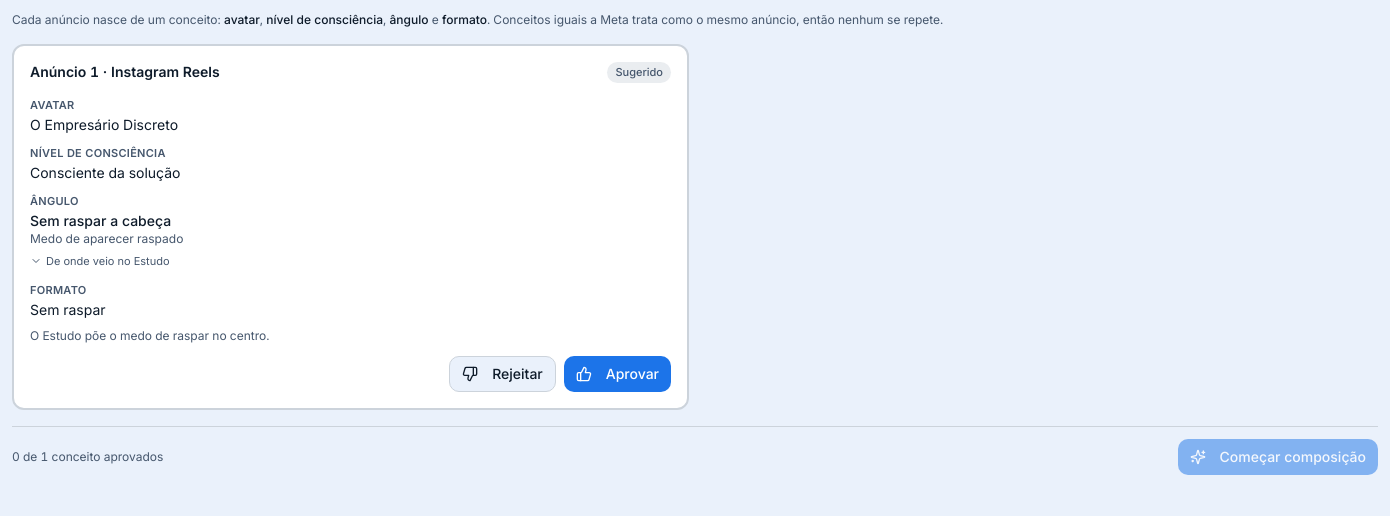
it: ConceitosComposicao › o card mostra as quatro partes, o uso e de onde o ângulo veio
Expected: the list item with aria-label "Conceito do anúncio 1" shows "Anúncio 1 · Instagram Reels", [12, 44, 689, 410]
Expected: the list item with aria-label "Conceito do anúncio 1" shows "O Empresário Discreto", [30, 116, 178, 132]
Click the button "De onde veio no Estudo". click: (100, 260)
box: [30, 250, 170, 270]
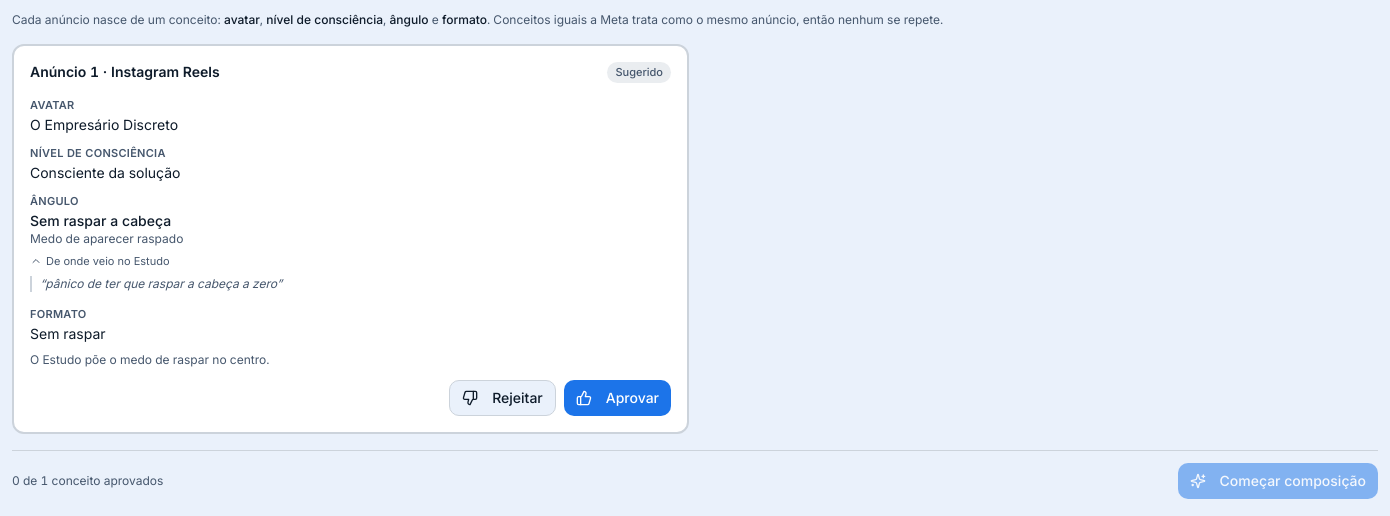
Expected: the list item with aria-label "Conceito do anúncio 1" shows "“pânico de ter que raspar a cabeça a zero”", [12, 44, 689, 434]
